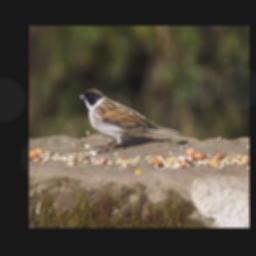Sparrow: (77, 87, 180, 151)
